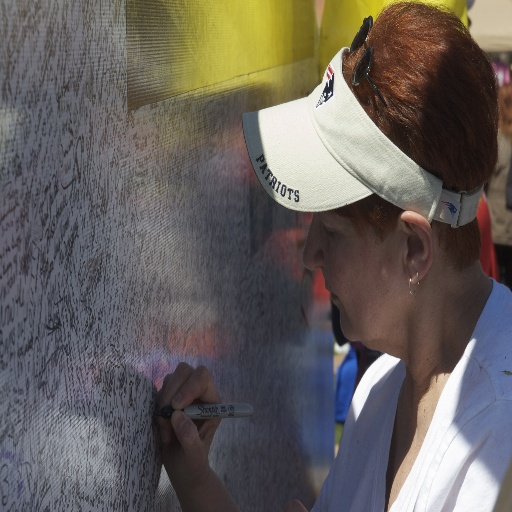hand: (153, 361, 225, 481)
